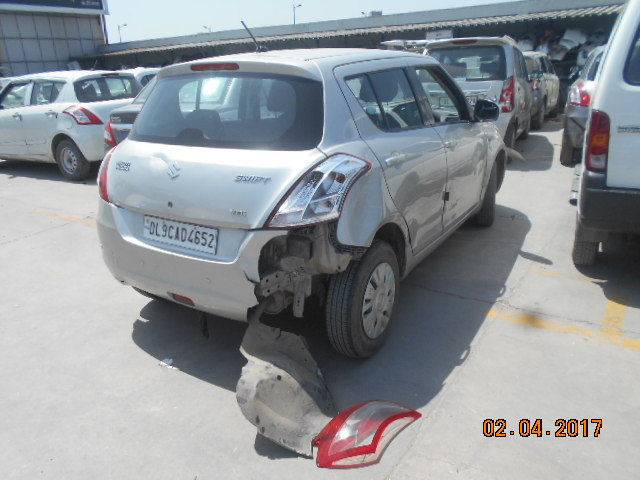Large_tear_or_damage: (252, 214, 365, 354)
